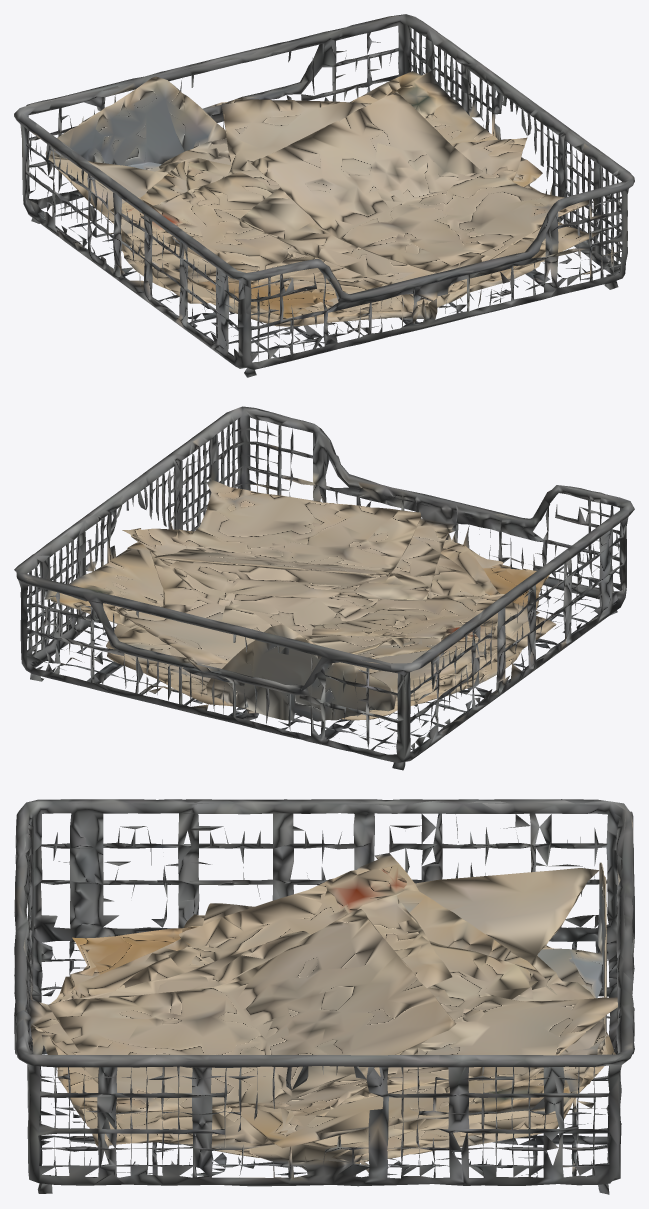
The model's file is mail.glb.
3 views of the same model, one above another, from view 1: azimuth 30°, elevation 25°; view 2: azimuth 150°, elevation 25°; view 3: azimuth 270°, elevation 25° (orthographic). The views are drawn at different scales.
Size of the model in its own units: 1.88 by 0.5127 by 1.88.
